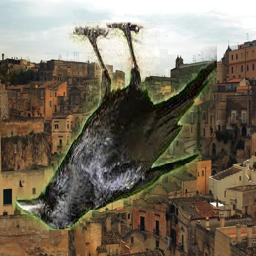Crow: (13, 22, 218, 230)
